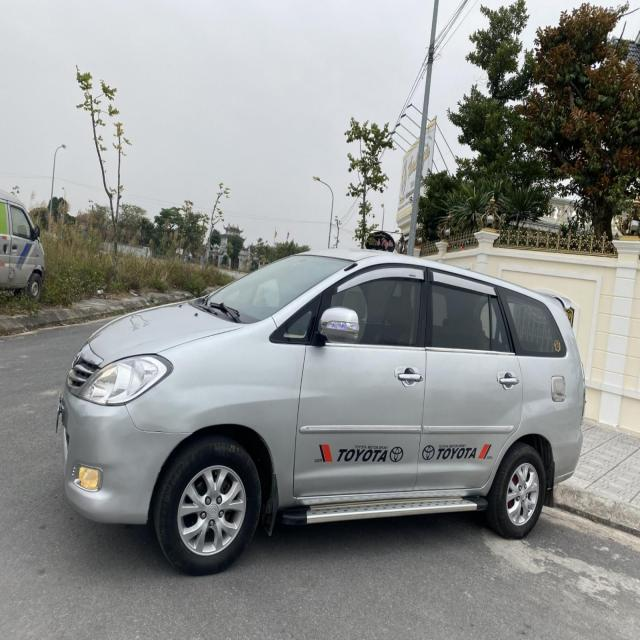light_vehicle: (56, 248, 586, 576)
